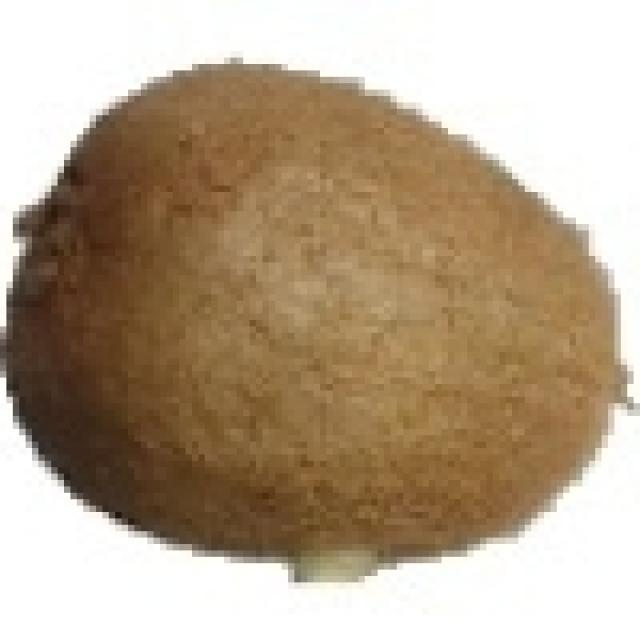kiwi: (19, 58, 627, 563)
